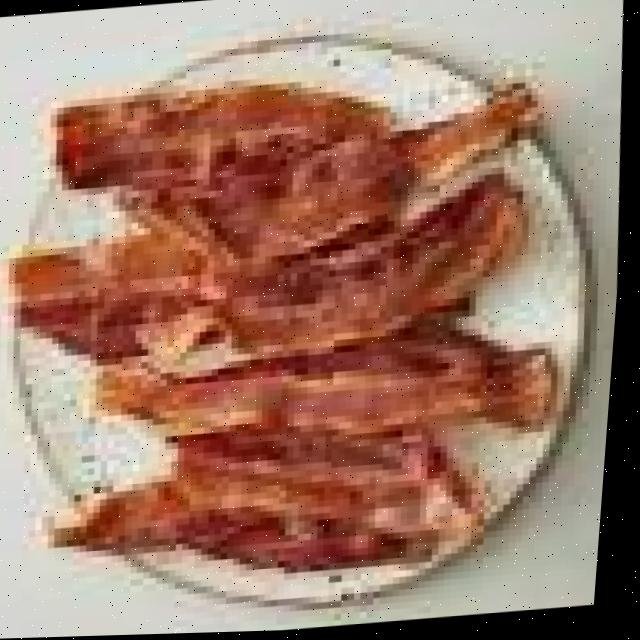Bacon: (15, 181, 527, 367), (163, 91, 540, 256), (64, 430, 490, 573), (103, 333, 559, 437), (57, 87, 387, 188)
